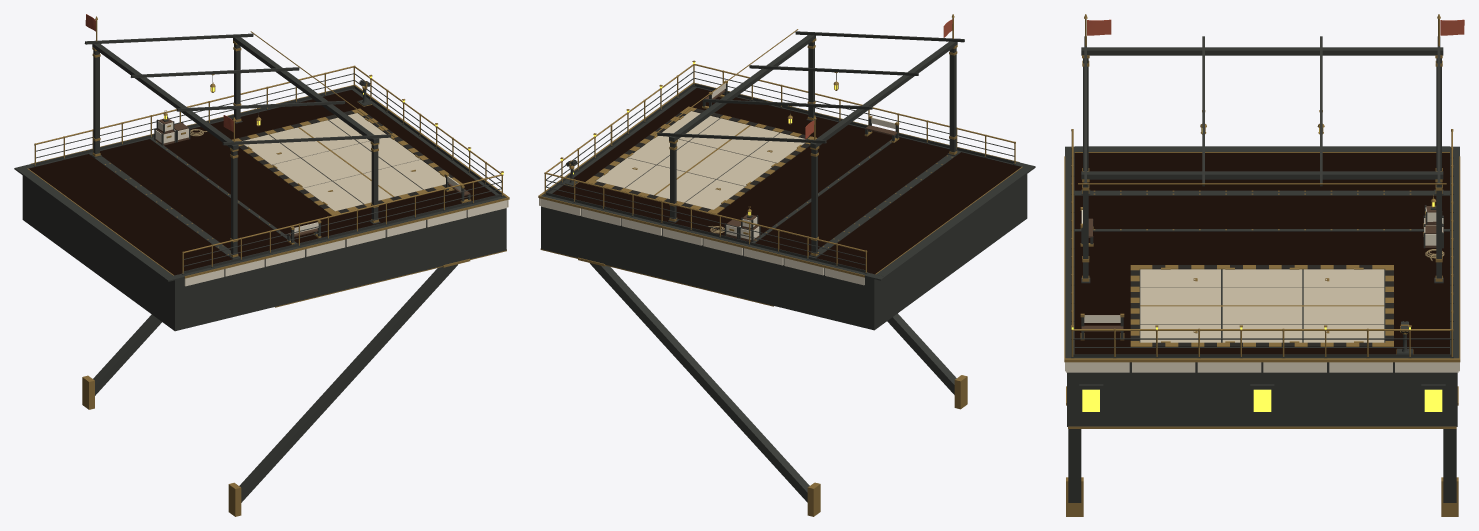
The model's file is ordo_landing.glb.
3 views of the same model, side by side, from view 1: azimuth 30°, elevation 25°; view 2: azimuth 150°, elevation 25°; view 3: azimuth 270°, elevation 25° (orthographic). The views are drawn at different scales.
Parts seen in each view (by area): view 1: ordo_landing; view 2: ordo_landing; view 3: ordo_landing.
Boxes of the visible parts, <box> form: ordo_landing: <box>14,14,509,516</box>; ordo_landing: <box>538,14,1035,516</box>; ordo_landing: <box>1064,14,1464,516</box>.
Bounding box in the file's own units: 23.1 × 25.31 × 18.23.
